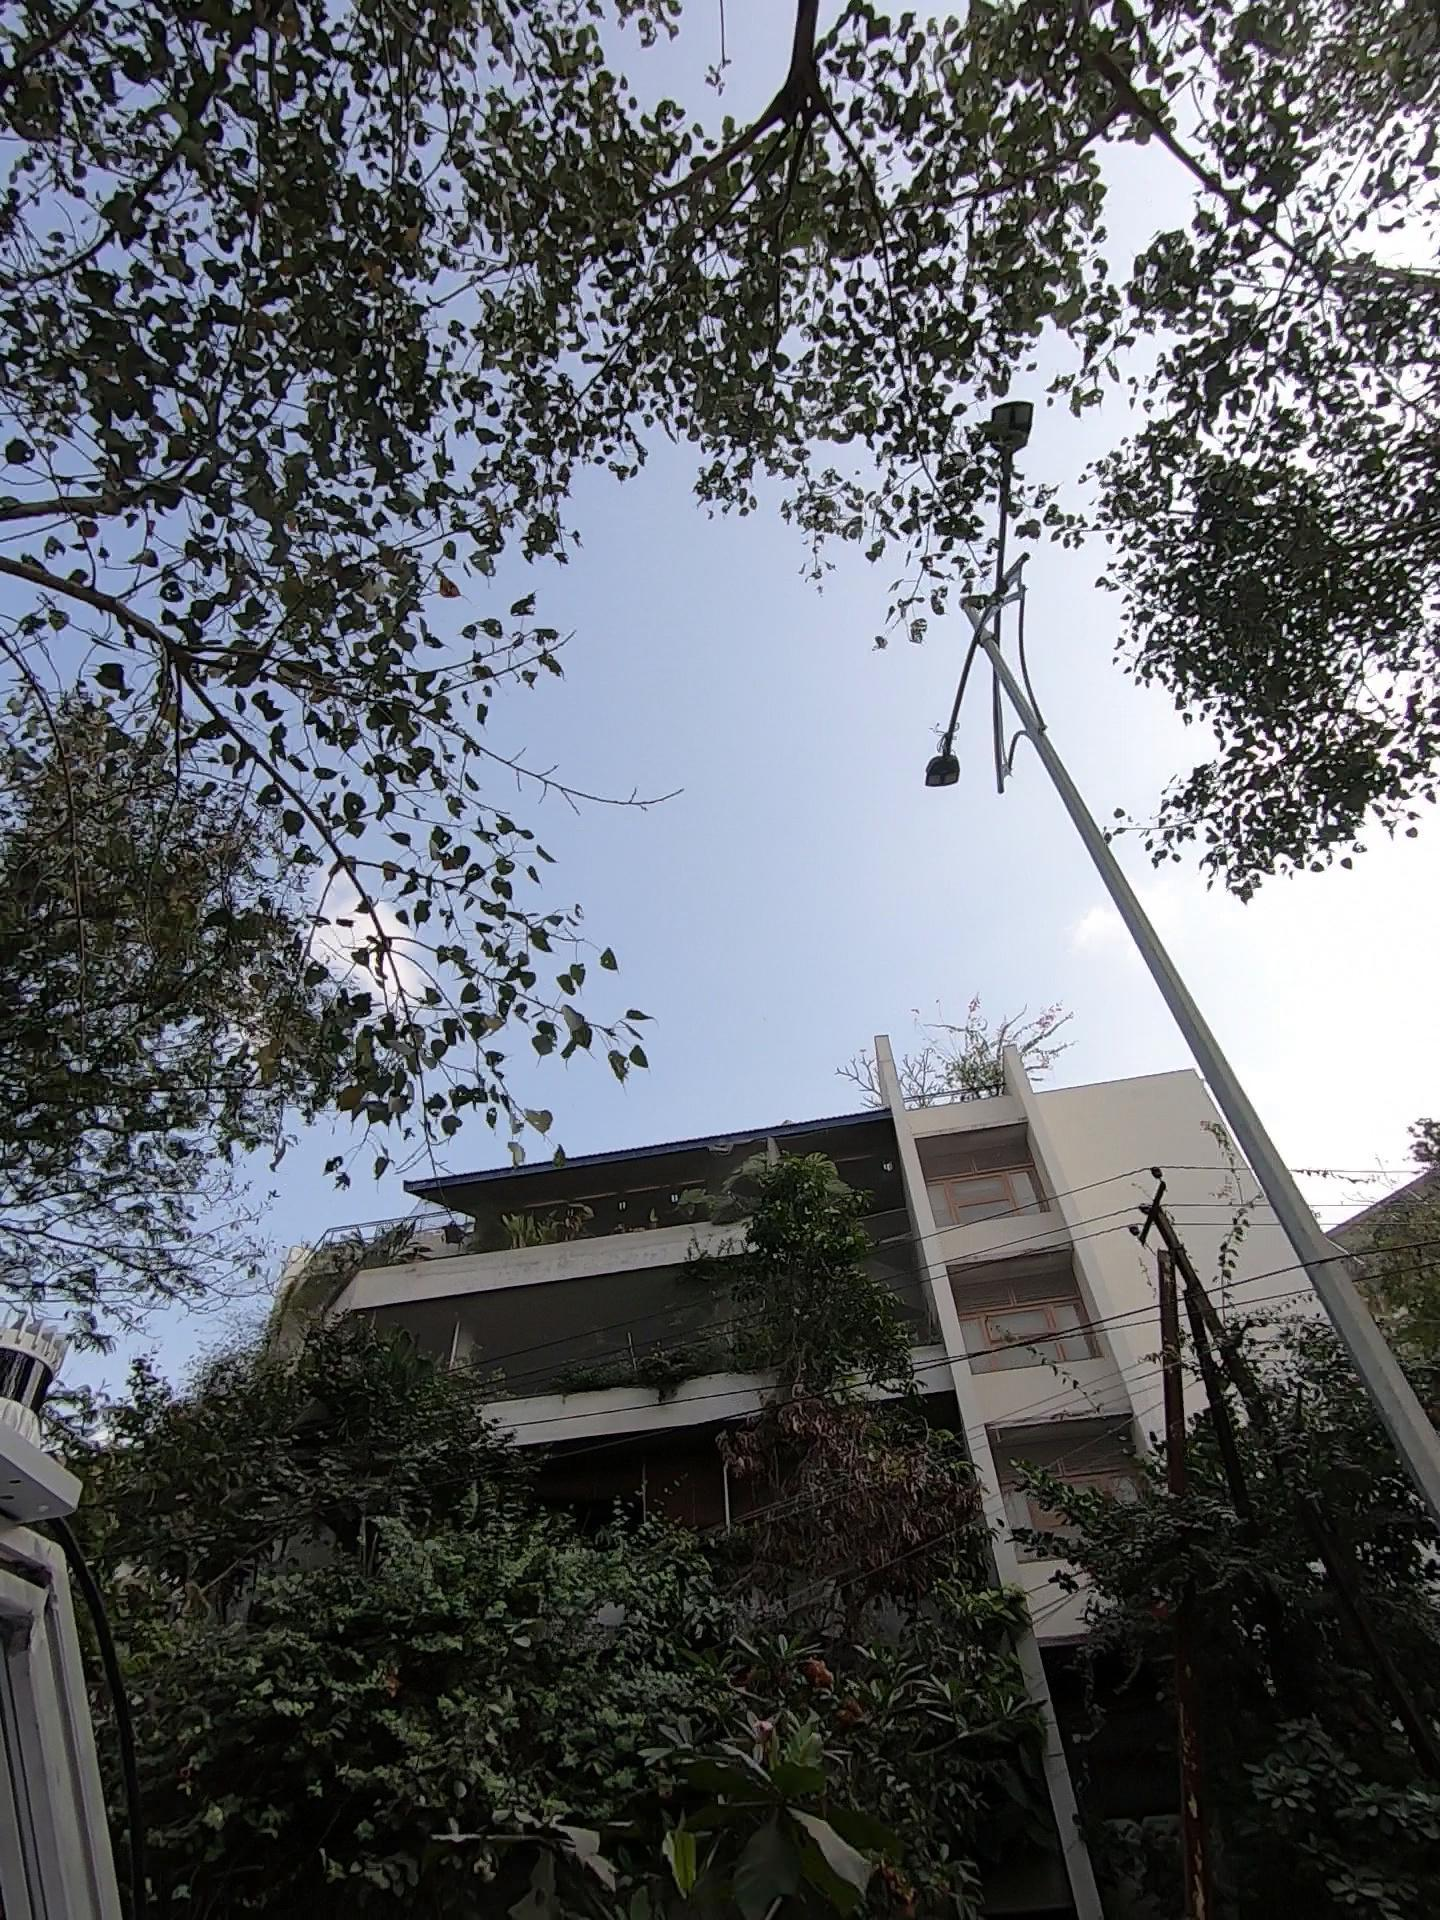off: (911, 321, 1071, 943)
